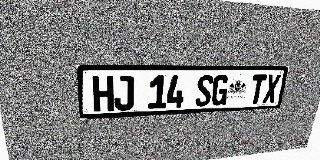1: (148, 75, 168, 109)
4: (166, 75, 186, 108)
G: (211, 75, 230, 106)
H: (92, 76, 114, 112)
J: (114, 75, 134, 111)
S: (195, 75, 214, 107)
T: (248, 75, 267, 104)
X: (262, 74, 281, 103)
